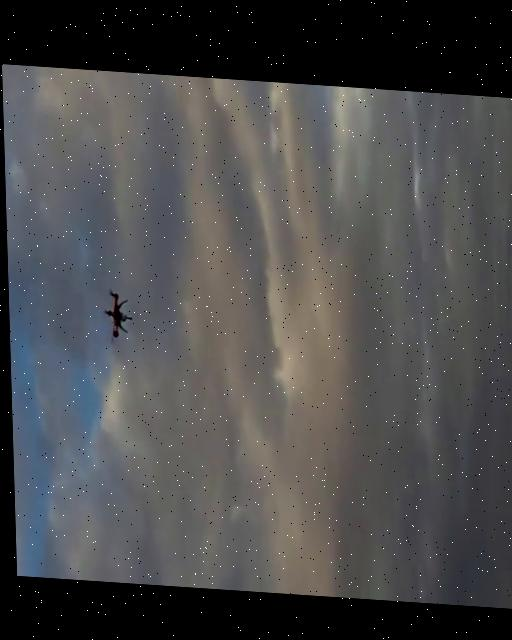drone: (95, 283, 129, 342)
